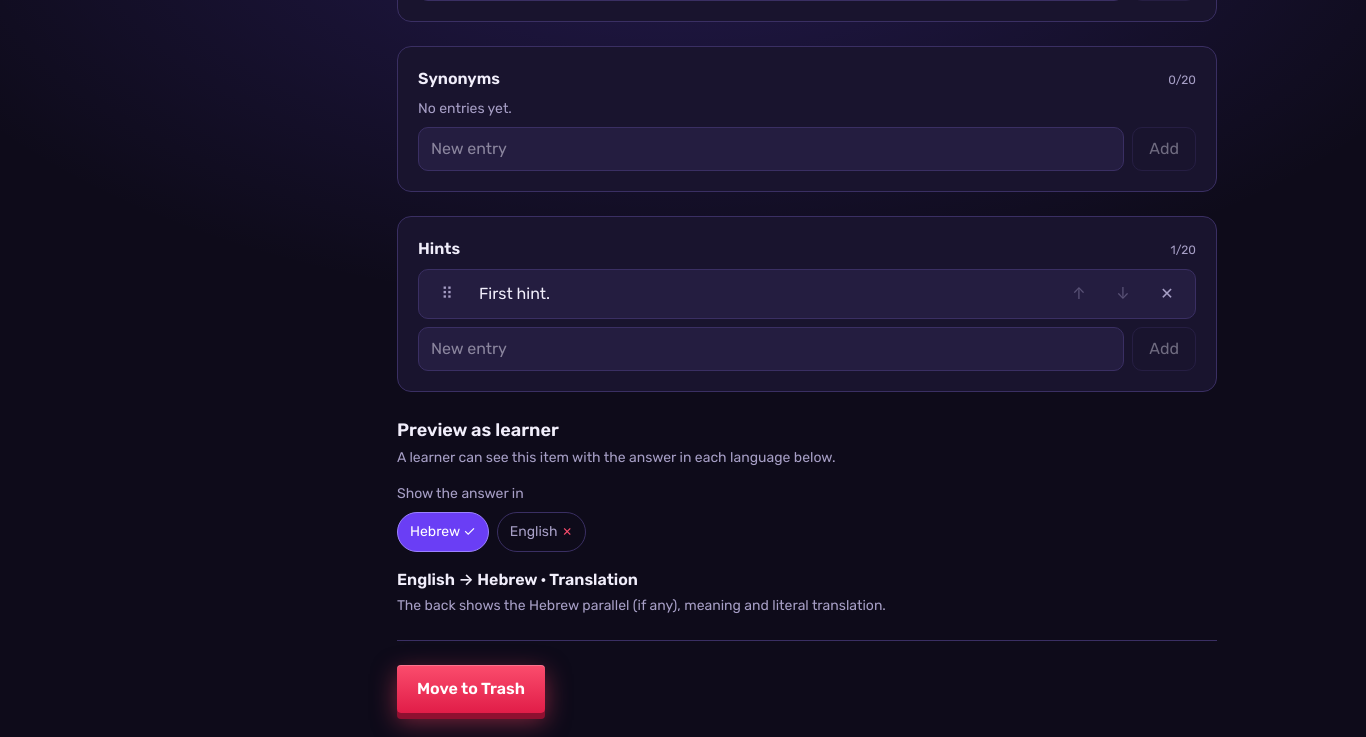
Test: AdminApp › preview: opens on the other language and says what a direction that is not ready needs
The image size is (1366, 737).
(page scrolled)
Expected: the heading "English → Hebrew · Translation" is shown, [397,570,638,589]
Click the button "English ✗": (542, 532) [497,512,586,552]
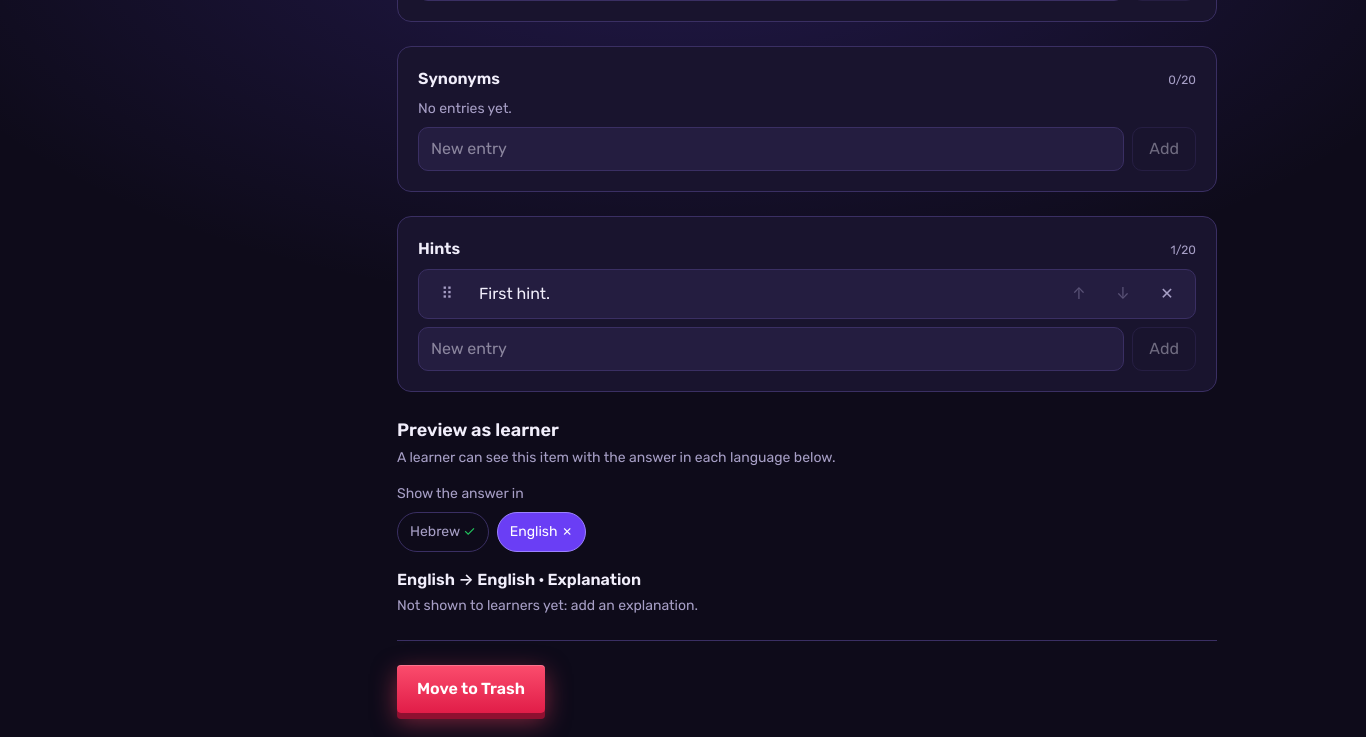
Now the heading "English → English · Explanation" is shown, box [397,570,641,589]
Now the text "Not shown to learners yet: add an explanation." is shown, box [397,597,698,614]
